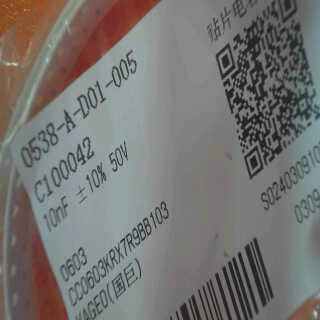10nF: (38, 190, 76, 231)
